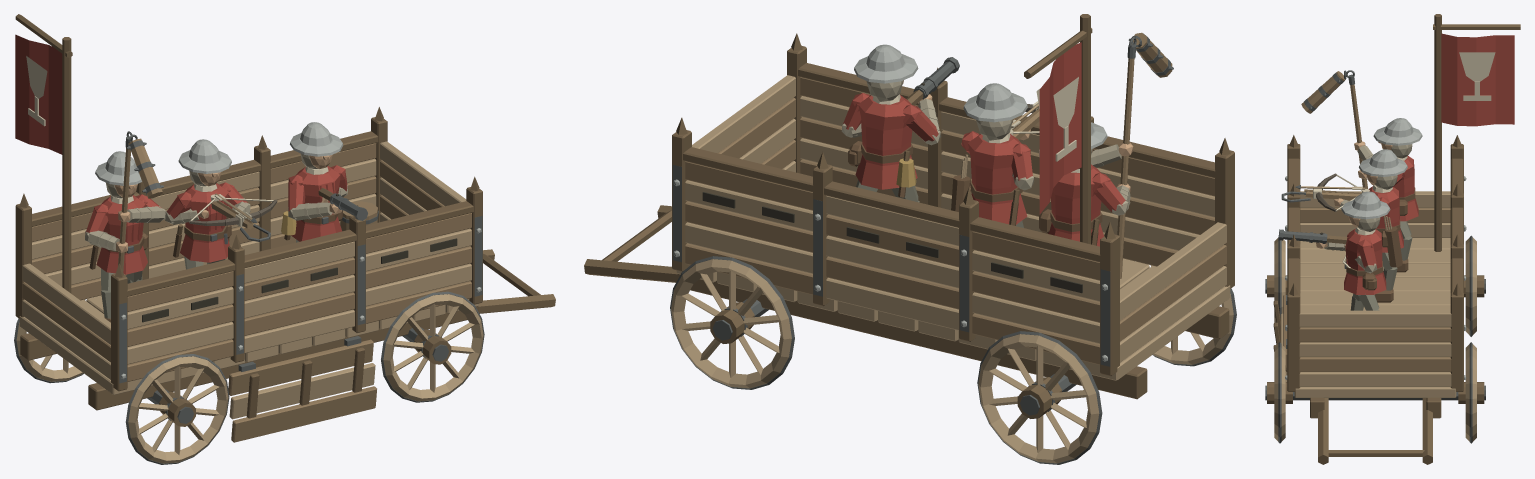
Rendered from war_wagon.glb.
3 renders of one model, left to right at view 1: azimuth 30°, elevation 25°; view 2: azimuth 150°, elevation 25°; view 3: azimuth 270°, elevation 25°, orthographic. The views are drawn at different scales.
Visible parts, largest first — view 1: war_wagon_oak_light, war_wagon_oak, war_wagon_oak_dark, war_wagon_team_cloth, war_wagon_iron, war_wagon_steel, war_wagon_padded_linen, war_wagon_linen, war_wagon_black, war_wagon_leather, war_wagon_skin, war_wagon_hose; view 2: war_wagon_oak_light, war_wagon_oak, war_wagon_oak_dark, war_wagon_team_cloth, war_wagon_iron, war_wagon_steel, war_wagon_padded_linen, war_wagon_leather, war_wagon_black, war_wagon_linen; view 3: war_wagon_oak_light, war_wagon_oak_dark, war_wagon_team_cloth, war_wagon_oak, war_wagon_iron, war_wagon_steel, war_wagon_leather, war_wagon_linen, war_wagon_padded_linen, war_wagon_hose, war_wagon_skin.
Boxes of the visible parts, <box> form: war_wagon_oak_light: <box>16,141,483,463</box>; war_wagon_oak: <box>22,138,471,442</box>; war_wagon_oak_dark: <box>15,14,555,426</box>; war_wagon_team_cloth: <box>15,34,347,274</box>; war_wagon_iron: <box>14,131,484,464</box>; war_wagon_steel: <box>95,122,481,379</box>; war_wagon_padded_linen: <box>85,153,347,250</box>; war_wagon_linen: <box>26,56,334,227</box>; war_wagon_black: <box>142,194,457,322</box>; war_wagon_leather: <box>89,210,342,322</box>; war_wagon_skin: <box>114,155,341,252</box>; war_wagon_hose: <box>101,239,299,318</box>; war_wagon_oak_light: <box>671,75,1233,463</box>; war_wagon_oak: <box>685,32,1226,364</box>; war_wagon_oak_dark: <box>584,14,1234,418</box>; war_wagon_team_cloth: <box>843,42,1125,246</box>; war_wagon_iron: <box>670,33,1236,464</box>; war_wagon_steel: <box>673,44,1107,361</box>; war_wagon_padded_linen: <box>841,80,1130,215</box>; war_wagon_leather: <box>848,141,1102,245</box>; war_wagon_black: <box>702,83,1082,293</box>; war_wagon_linen: <box>872,77,1079,172</box>; war_wagon_oak_light: <box>1274,186,1476,441</box>; war_wagon_oak_dark: <box>1267,14,1520,464</box>; war_wagon_team_cloth: <box>1344,33,1514,294</box>; war_wagon_oak: <box>1283,71,1451,371</box>; war_wagon_iron: <box>1265,70,1485,443</box>; war_wagon_steel: <box>1285,118,1466,379</box>; war_wagon_leather: <box>1346,187,1415,302</box>; war_wagon_linen: <box>1313,52,1495,267</box>; war_wagon_padded_linen: <box>1324,144,1412,273</box>; war_wagon_hose: <box>1350,221,1412,310</box>; war_wagon_skin: <box>1316,141,1392,251</box>.
Size of the model in its own units: 5.28 by 3.93 by 2.94.
